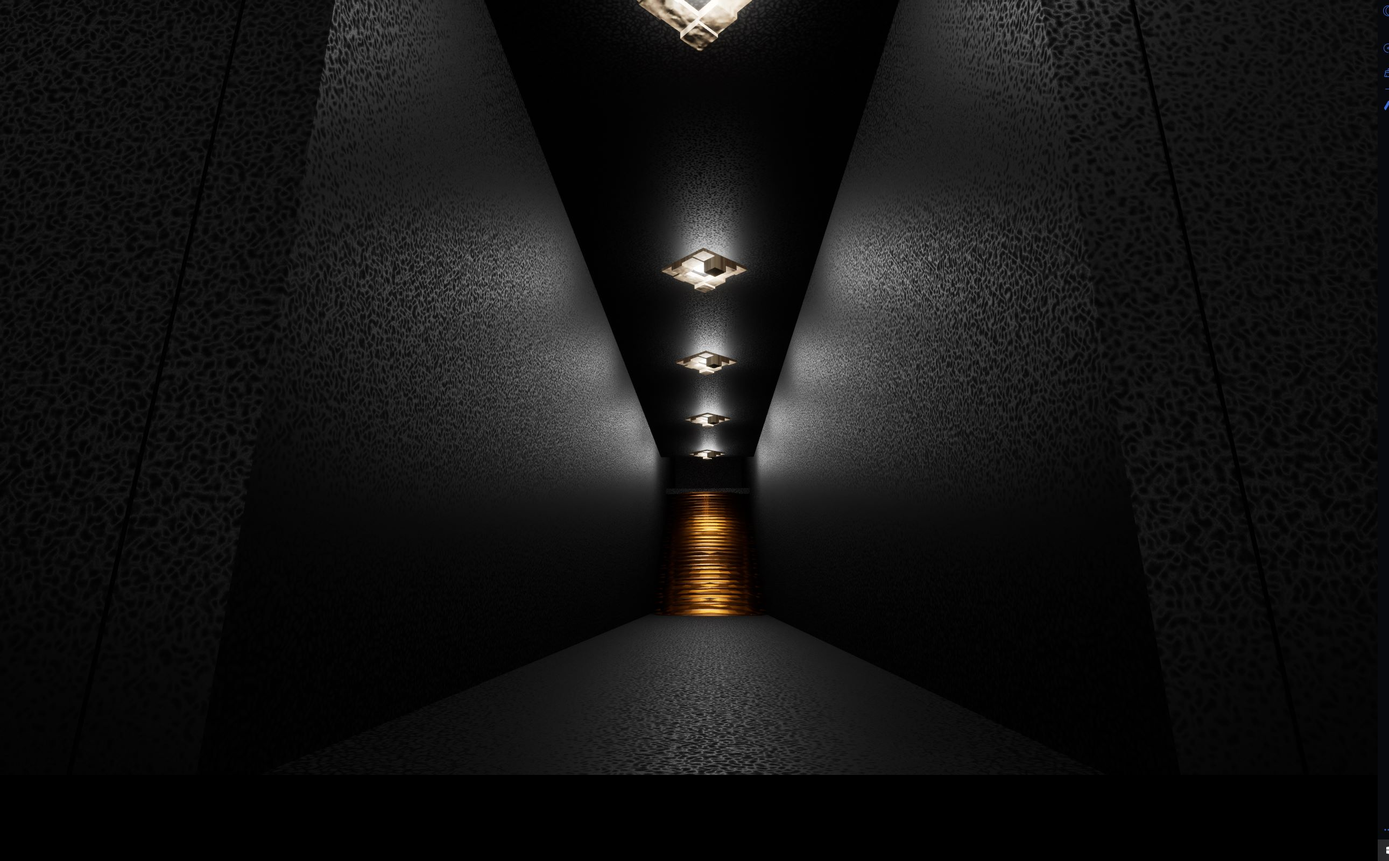not a gesture sign: (655, 248, 782, 310)
